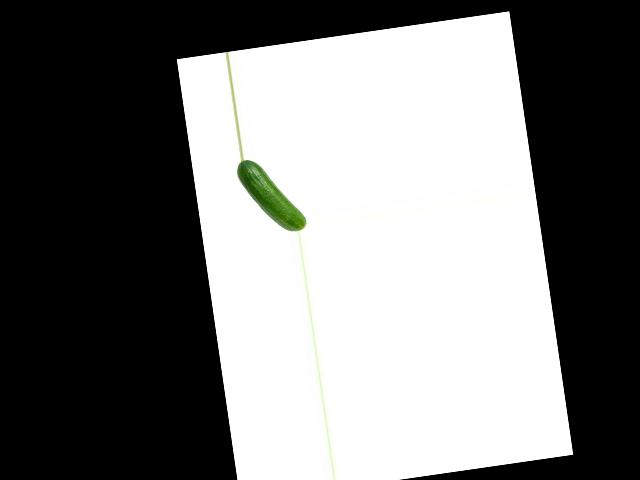cucumber: (234, 152, 307, 238)
